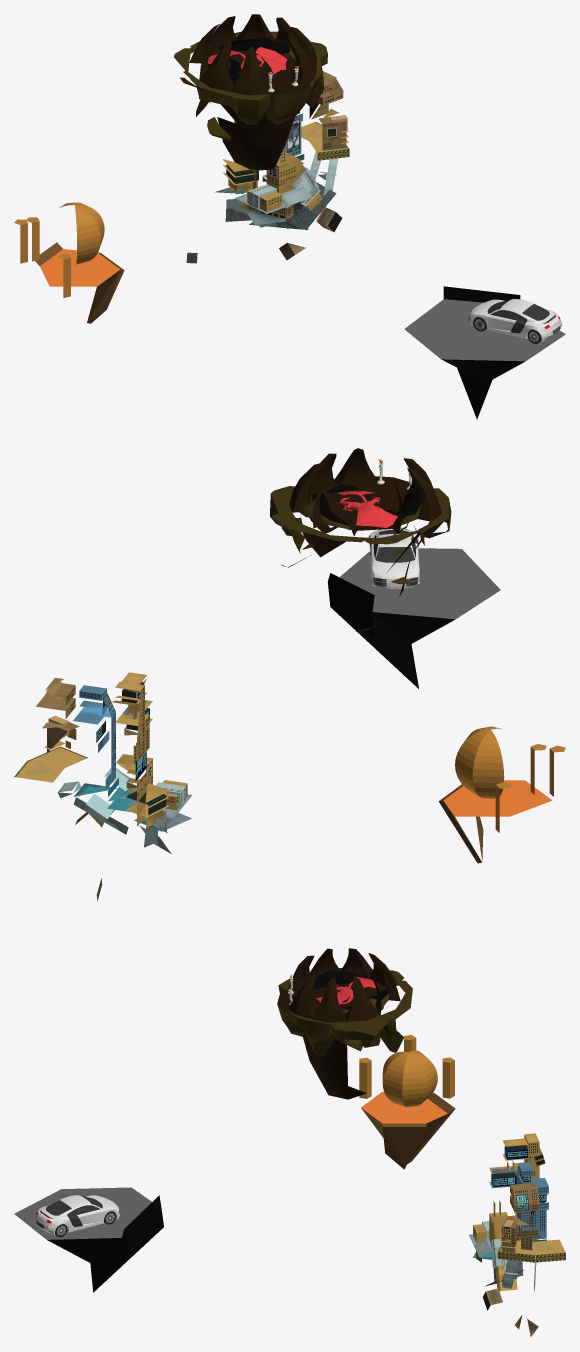
The picture shows the model from 3 angles, top to bottom: view 1: azimuth 30°, elevation 25°; view 2: azimuth 150°, elevation 25°; view 3: azimuth 270°, elevation 25°; orthographic projection. The views are drawn at different scales.
Visible parts, largest first — view 1: IslaDragonShape_16_0, Object_3.001, port_2, port_3, Cube_0, dragonShape_20_0; view 2: Object_3.001, IslaDragonShape_16_0, port_2, port_3, Cube_0, dragonShape_20_0; view 3: IslaDragonShape_16_0, Object_3.001, port_3, port_2, Cube_0.
Part boxes in pixels (left/top/right/bottom): IslaDragonShape_16_0: left=174, top=14, right=327, bottom=170; Object_3.001: left=186, top=71, right=349, bottom=263; port_2: left=404, top=286, right=565, bottom=419; port_3: left=14, top=202, right=124, bottom=323; Cube_0: left=468, top=299, right=561, bottom=342; dragonShape_20_0: left=208, top=47, right=287, bottom=74; Object_3.001: left=14, top=672, right=192, bottom=901; IslaDragonShape_16_0: left=270, top=448, right=451, bottom=631; port_2: left=327, top=548, right=500, bottom=688; port_3: left=439, top=726, right=565, bottom=863; Cube_0: left=368, top=527, right=419, bottom=589; dragonShape_20_0: left=337, top=491, right=397, bottom=527; IslaDragonShape_16_0: left=277, top=948, right=412, bottom=1099; Object_3.001: left=469, top=1133, right=565, bottom=1337; port_3: left=359, top=1035, right=455, bottom=1169; port_2: left=14, top=1187, right=163, bottom=1292; Cube_0: left=34, top=1195, right=120, bottom=1235.
Bounding box in the file's own units: 20.43 × 17.33 × 27.8.
32 materials, 1 textured.
